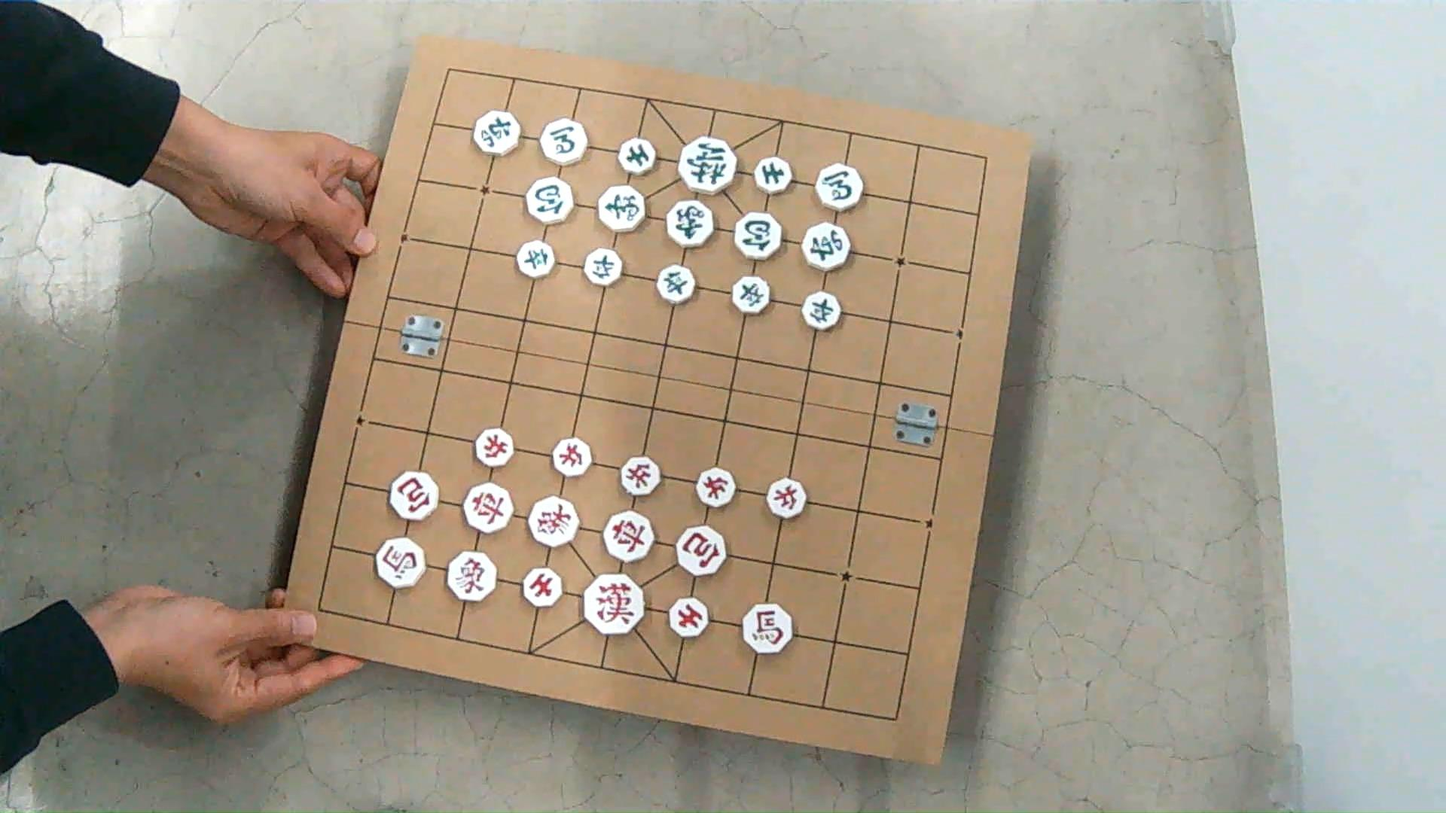cha_green: (803, 223, 851, 270), (473, 111, 520, 155)
cha_red: (604, 510, 654, 561), (463, 483, 514, 532)
jol_green: (732, 276, 770, 314), (657, 265, 695, 303), (803, 292, 841, 330), (516, 241, 554, 278), (584, 248, 621, 285)
jol_red: (767, 478, 806, 519), (621, 456, 660, 496), (474, 428, 514, 467), (697, 467, 736, 507), (553, 438, 592, 477)
ma_green: (816, 164, 863, 210), (540, 119, 587, 165)
ma_red: (376, 537, 426, 587), (743, 604, 792, 653)
po_green: (734, 212, 782, 260), (526, 177, 573, 224)
po_red: (676, 526, 727, 575), (390, 471, 438, 519)
sa_green: (618, 138, 656, 175), (754, 157, 792, 193)
sa_red: (669, 597, 709, 638), (522, 568, 562, 607)
sang_green: (666, 199, 714, 248), (598, 185, 646, 231)
sang_red: (529, 497, 578, 546), (447, 552, 496, 601)
wang_green: (679, 137, 737, 193)
wang_red: (583, 573, 645, 635)
